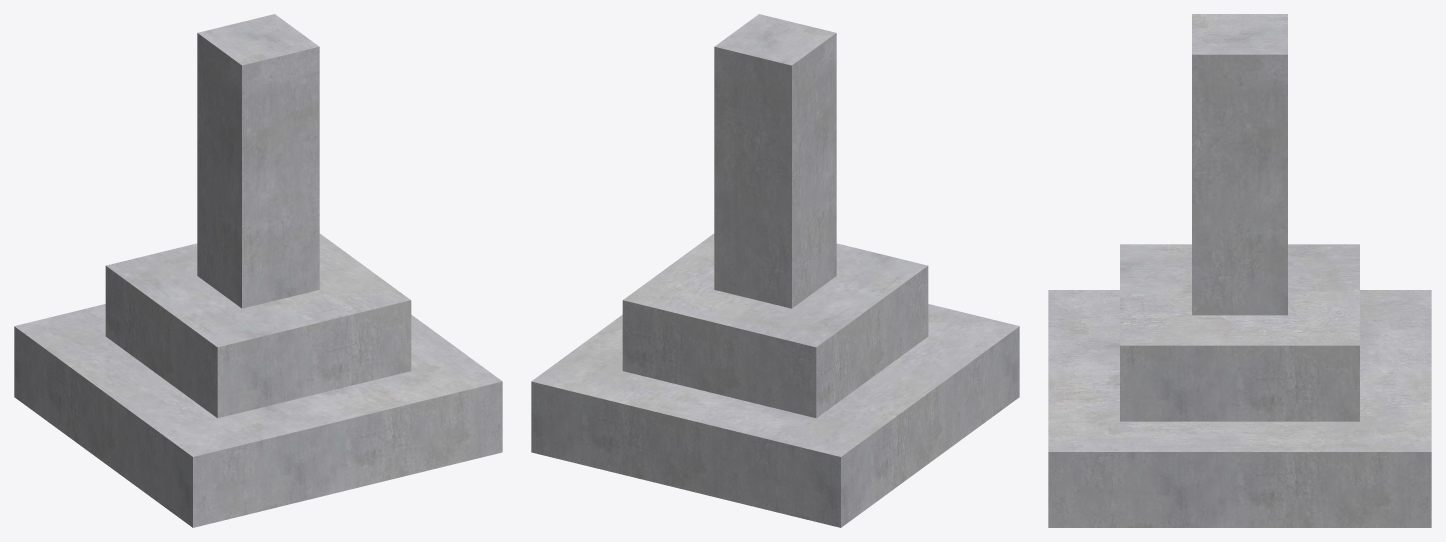
File: stepped-base.glb
3 views of the same model, side by side, from view 1: azimuth 30°, elevation 25°; view 2: azimuth 150°, elevation 25°; view 3: azimuth 270°, elevation 25° (orthographic). The views are drawn at different scales.
Parts seen in each view (by area): view 1: 阶梯形基础; view 2: 阶梯形基础; view 3: 阶梯形基础.
Part boxes in pixels (left/top/right/bottom): 阶梯形基础: left=14, top=14, right=502, bottom=527; 阶梯形基础: left=531, top=14, right=1019, bottom=527; 阶梯形基础: left=1048, top=14, right=1431, bottom=527.
Size of the model in its own units: 1.6 by 1.9 by 1.6.
1 material, 1 textured.
